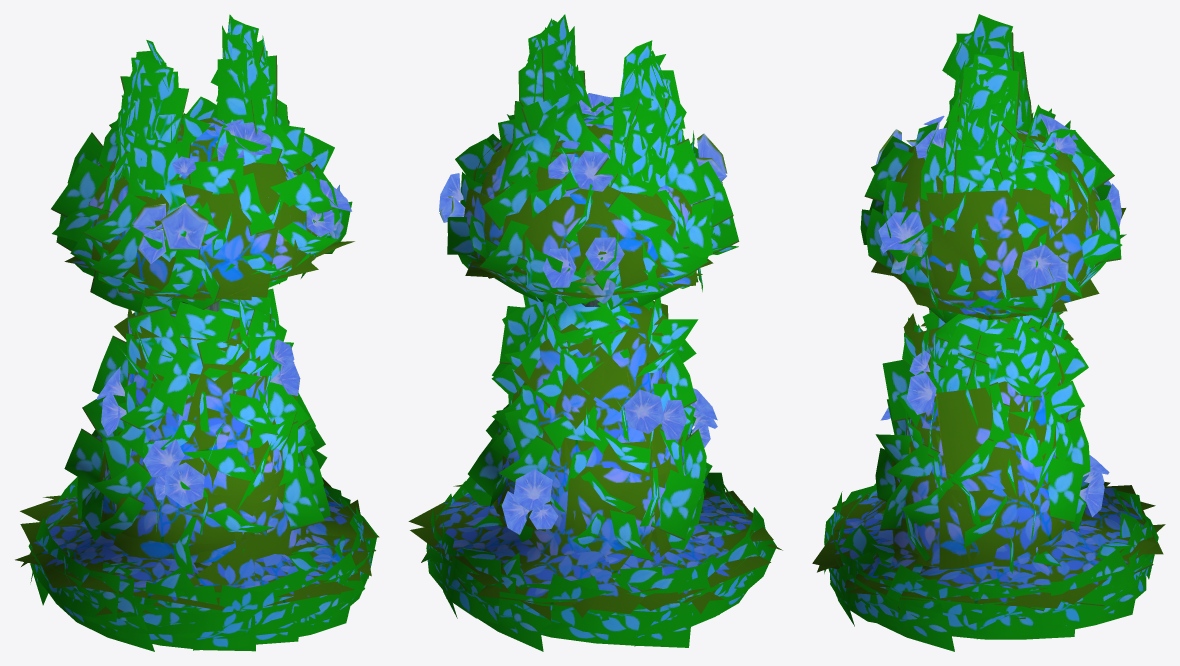
The model's file is Homeworld_Exterior_Common_Flower_Decoration_Green_03_Lod0.fbx.
3 renders of one model, left to right at view 1: azimuth 30°, elevation 25°; view 2: azimuth 150°, elevation 25°; view 3: azimuth 270°, elevation 25°, orthographic.
Parts seen in each view (by area): view 1: Homeworld_Exterior_Common_Flower_Decoration_Green_03_A_Lod0, Homeworld_Exterior_Common_Flower_Decoration_Green_03_B_Lod0; view 2: Homeworld_Exterior_Common_Flower_Decoration_Green_03_A_Lod0, Homeworld_Exterior_Common_Flower_Decoration_Green_03_B_Lod0; view 3: Homeworld_Exterior_Common_Flower_Decoration_Green_03_A_Lod0, Homeworld_Exterior_Common_Flower_Decoration_Green_03_B_Lod0.
Boxes of the visible parts, box(x1,y1,x2,y2) form: Homeworld_Exterior_Common_Flower_Decoration_Green_03_A_Lod0: box(15, 14, 379, 651); Homeworld_Exterior_Common_Flower_Decoration_Green_03_B_Lod0: box(96, 119, 351, 506); Homeworld_Exterior_Common_Flower_Decoration_Green_03_A_Lod0: box(408, 14, 782, 651); Homeworld_Exterior_Common_Flower_Decoration_Green_03_B_Lod0: box(439, 93, 727, 534); Homeworld_Exterior_Common_Flower_Decoration_Green_03_A_Lod0: box(812, 14, 1165, 651); Homeworld_Exterior_Common_Flower_Decoration_Green_03_B_Lod0: box(876, 113, 1121, 516).
Size of the model in its own units: 1.1 by 1.89 by 1.08.
